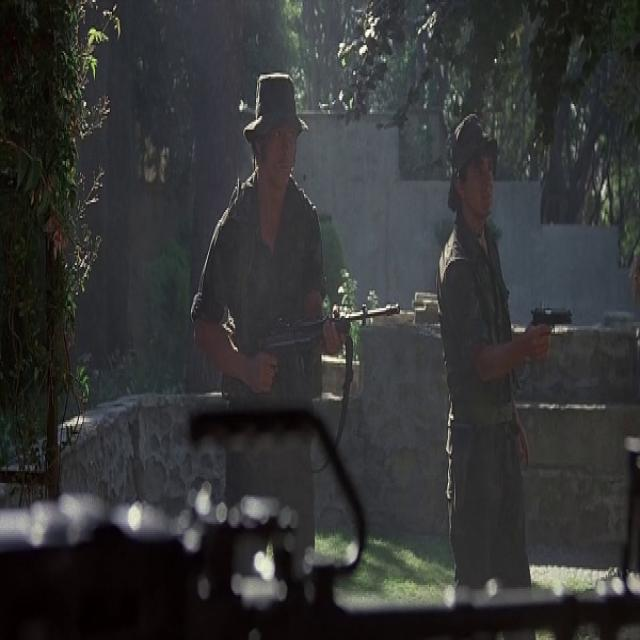rifle: (222, 294, 403, 405)
